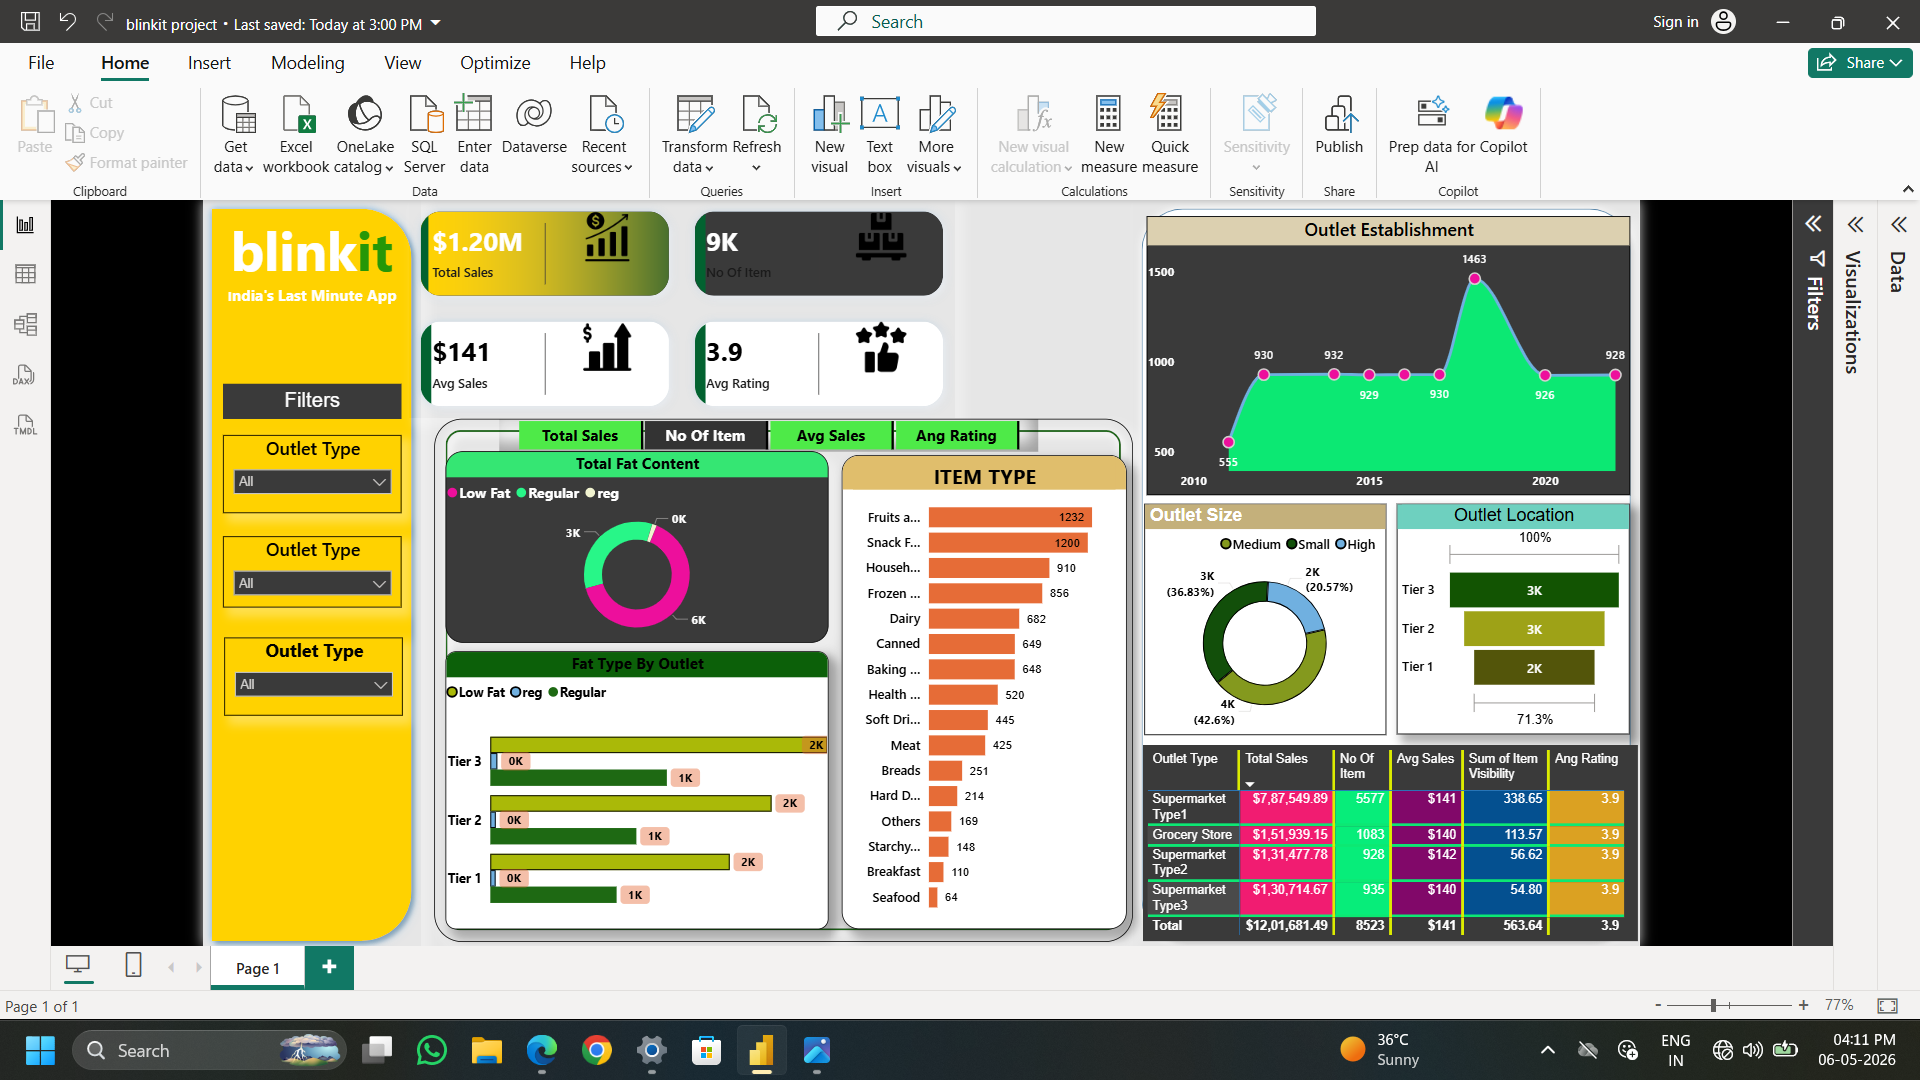

What the dashboard file says about the page in this screenshot:
{"tool":"powerbi","page":{"name":"Page 1","canvas":[1500,779],"ordinal":0},"visuals":[{"type":"shape","box":[0,0,226.8,782.9],"z":0},{"type":"textbox","box":[20.7,6.1,186.6,86.6],"z":1000},{"type":"textbox","box":[20.7,82.9,195.1,42.7],"z":2000},{"type":"cardVisual","fields":{"Data":["BlinkIT Grocery Data.Total Sales","BlinkIT Grocery Data.Avg Sales","BlinkIT Grocery Data.No Of Item","BlinkIT Grocery Data.Ang Rating"]},"box":[215.8,0,569.5,228],"z":3000},{"type":"shape","box":[241.5,228,729.2,546.3],"z":4000},{"type":"donutChart","title":"Total Fat Content","fields":{"Y":["BlinkIT Grocery Data.No Of Item"],"Category":["BlinkIT Grocery Data.Item Fat Content"]},"box":[253.7,262.2,400,200],"z":5000},{"type":"slicer","fields":{"Values":["matrix.matrix"]},"box":[309.7,228,562.2,34.1],"z":6000},{"type":"clusteredBarChart","title":"Fat Type By Outlet","fields":{"Y":["BlinkIT Grocery Data.No Of Item"],"Category":["BlinkIT Grocery Data.Outlet Location Type"],"Series":["BlinkIT Grocery Data.Item Fat Content"]},"box":[253.7,470.7,400,290.2],"z":7000},{"type":"barChart","title":"ITEM TYPE","fields":{"Y":["BlinkIT Grocery Data.No Of Item"],"Category":["BlinkIT Grocery Data.Item Type"]},"box":[667.1,265.8,297.6,495.1],"z":8000},{"type":"shape","box":[970.7,0,528.7,782.9],"z":9000},{"type":"lineChart","title":"Outlet Establishment ","fields":{"Y":["BlinkIT Grocery Data.No Of Item"],"Category":["BlinkIT Grocery Data.Outlet Establishment Year"]},"box":[985.2,16.9,504.6,291.5],"z":10000},{"type":"donutChart","title":"Outlet Size","fields":{"Y":["BlinkIT Grocery Data.No Of Item"],"Category":["BlinkIT Grocery Data.Outlet Size"]},"box":[982.9,317.1,252.4,241.5],"z":11000},{"type":"funnel","title":"Outlet Location ","fields":{"Y":["BlinkIT Grocery Data.No Of Item"],"Category":["BlinkIT Grocery Data.Outlet Location Type"]},"box":[1246.6,316.8,243.3,240.9],"z":12000},{"type":"slicer","title":"Outlet Type","fields":{"Values":["BlinkIT Grocery Data.Outlet Location Type"]},"box":[20.5,245.7,186.7,81.9],"z":13000},{"type":"slicer","title":"Outlet Type","fields":{"Values":["BlinkIT Grocery Data.Outlet Size"]},"box":[20.5,351.7,186.7,74.7],"z":14000},{"type":"slicer","title":"Outlet Type","fields":{"Values":["BlinkIT Grocery Data.Item Type"]},"box":[21.7,456.5,186.7,81.9],"z":15000},{"type":"pivotTable","fields":{"Rows":["BlinkIT Grocery Data.Outlet Type"],"Values":["BlinkIT Grocery Data.Total Sales","BlinkIT Grocery Data.No Of Item","BlinkIT Grocery Data.Avg Sales","Sum(BlinkIT Grocery Data.Item Visibility)","BlinkIT Grocery Data.Ang Rating"]},"box":[982.2,569.4,516.7,205],"z":15001},{"type":"textbox","box":[20.9,191.9,186.7,36.5],"z":15002}]}

Visuals, with their boxes on the page's 1500x779 design canvas (x1, y1, x2, y2). These are canvas units, not pixel positions in the 1920x1080 screenshot, which may show the page scaled, cropped or inside an application window:
shape: crop(0, 0, 227, 783)
textbox: crop(21, 6, 207, 93)
textbox: crop(21, 83, 216, 126)
cardVisual - BlinkIT Grocery Data.Total Sales x BlinkIT Grocery Data.Avg Sales: crop(216, 0, 785, 228)
shape: crop(242, 228, 971, 774)
"Total Fat Content" donutChart: crop(254, 262, 654, 462)
slicer - matrix.matrix: crop(310, 228, 872, 262)
"Fat Type By Outlet" clusteredBarChart: crop(254, 471, 654, 761)
"ITEM TYPE" barChart: crop(667, 266, 965, 761)
shape: crop(971, 0, 1499, 783)
"Outlet Establishment " lineChart: crop(985, 17, 1490, 308)
"Outlet Size" donutChart: crop(983, 317, 1235, 559)
"Outlet Location " funnel: crop(1247, 317, 1490, 558)
"Outlet Type" slicer: crop(20, 246, 207, 328)
"Outlet Type" slicer: crop(20, 352, 207, 426)
"Outlet Type" slicer: crop(22, 456, 208, 538)
pivotTable - BlinkIT Grocery Data.Outlet Type x BlinkIT Grocery Data.Total Sales: crop(982, 569, 1499, 774)
textbox: crop(21, 192, 208, 228)
